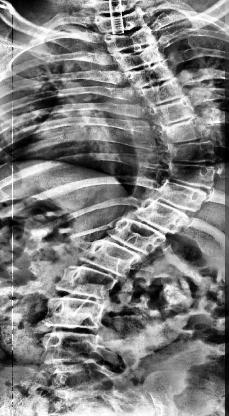Vertebrae: (44, 298, 110, 336), (58, 268, 118, 306), (138, 194, 192, 234), (39, 332, 101, 366), (84, 238, 138, 276), (110, 218, 166, 254), (150, 181, 212, 211), (166, 140, 220, 166), (168, 162, 218, 190), (162, 119, 212, 146), (105, 29, 159, 53), (130, 62, 176, 90), (95, 11, 153, 33), (116, 47, 168, 71), (137, 83, 185, 107), (153, 99, 197, 125)
